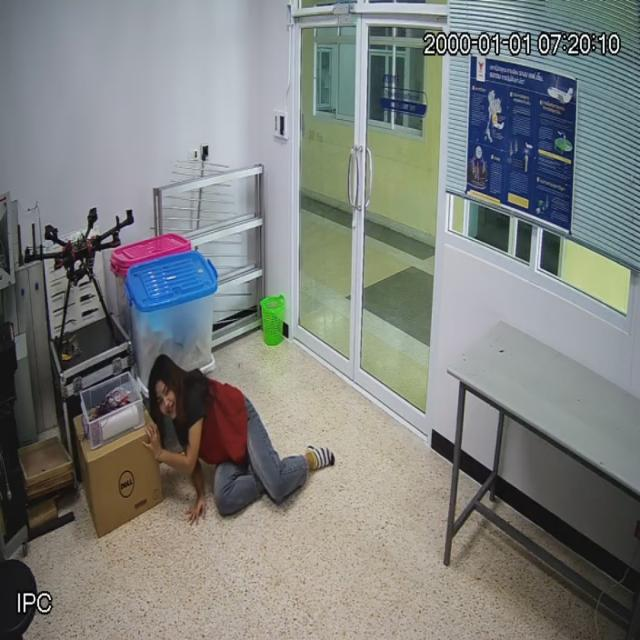fall: (149, 351, 328, 525)
